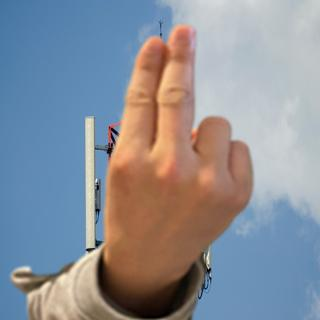DHAVE: (96, 21, 261, 286)
